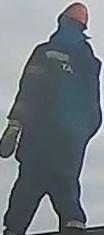gloves: (0, 112, 24, 158)
helmet: (56, 1, 91, 30)
vest: (25, 44, 102, 173)
